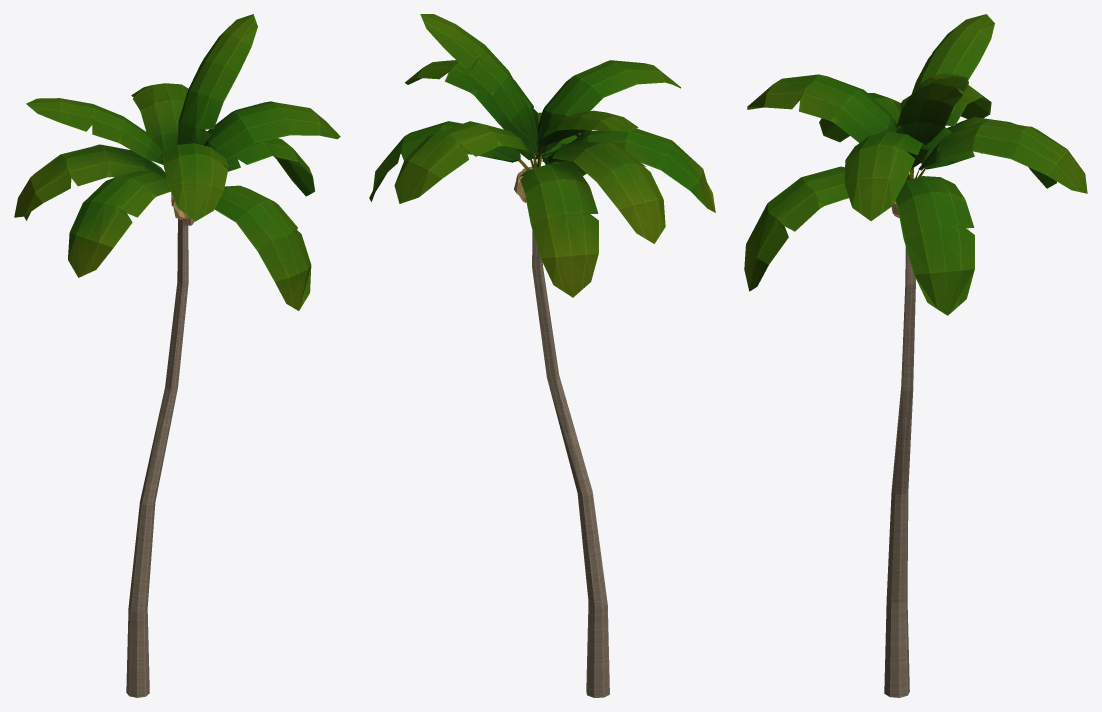
The model's file is coconut-palm.glb.
3 views of the same model, side by side, from view 1: azimuth 30°, elevation 25°; view 2: azimuth 150°, elevation 25°; view 3: azimuth 270°, elevation 25° (orthographic). The views are drawn at different scales.
Visible parts, largest first — view 1: CoconutPalmTree_mesh; view 2: CoconutPalmTree_mesh; view 3: CoconutPalmTree_mesh.
Part boxes in pixels (x1,y1,x2,y2): CoconutPalmTree_mesh: (14, 14, 340, 697); CoconutPalmTree_mesh: (369, 14, 715, 697); CoconutPalmTree_mesh: (744, 14, 1087, 697).
Size of the model in its own units: 12.72 by 27.08 by 12.16.
Materials: 1 (1 with a texture image).
